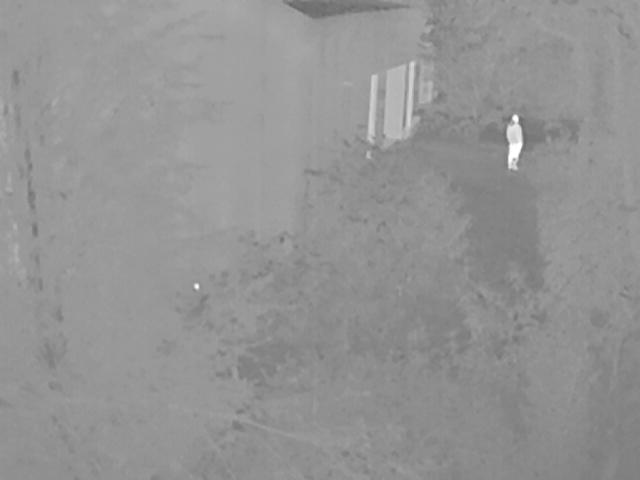person: (507, 113, 526, 169)
